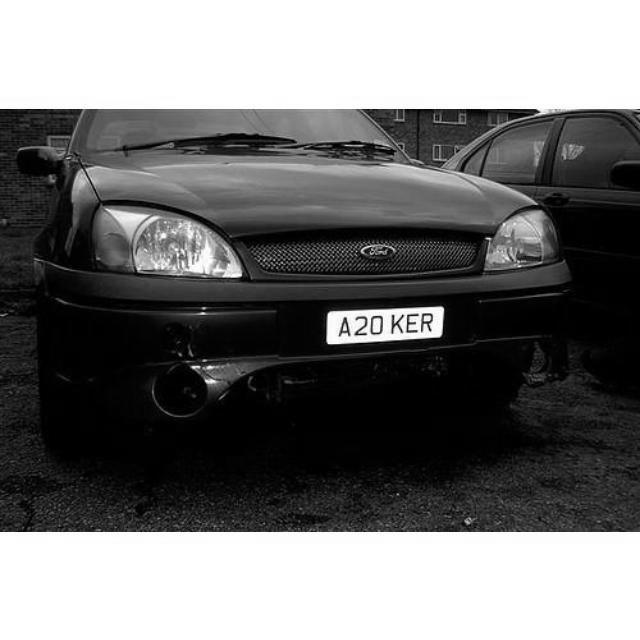front-bumper-dent: (58, 302, 567, 451)
